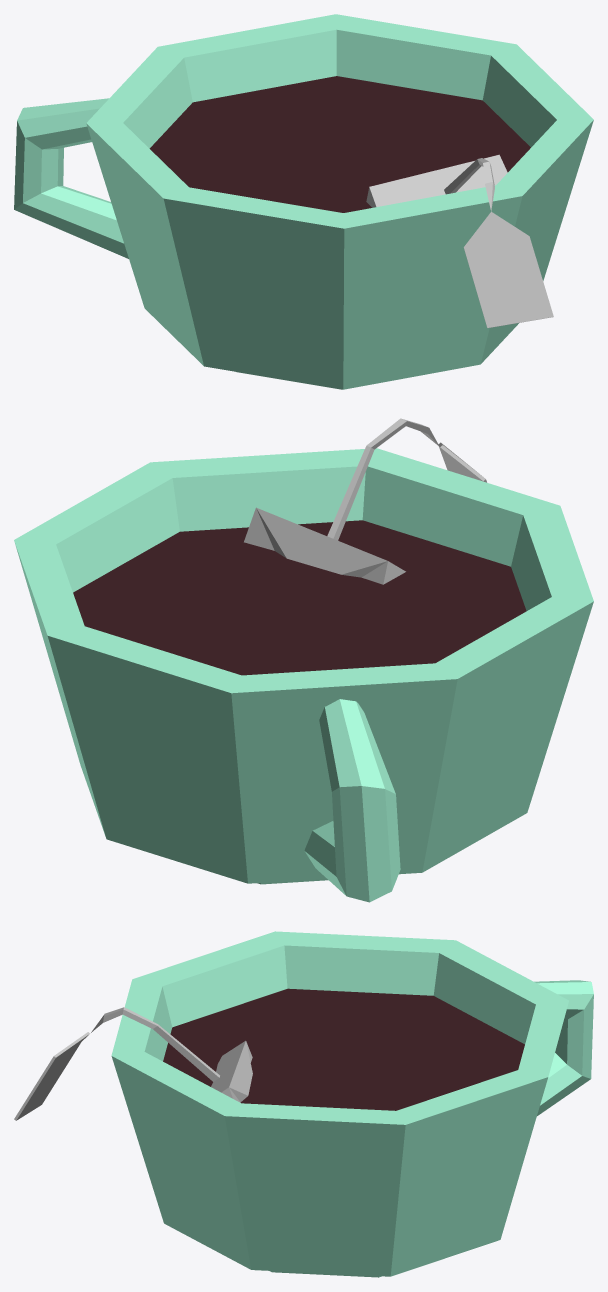
The model's file is Food_tea.fbx.
3 renders of one model, top to bottom at view 1: azimuth 30°, elevation 25°; view 2: azimuth 150°, elevation 25°; view 3: azimuth 270°, elevation 25°, orthographic. The views are drawn at different scales.
Parts seen in each view (by area): view 1: Cup.006; view 2: Cup.006; view 3: Cup.006.
Part boxes in pixels (x1=…): Cup.006: x1=14, y1=14, x2=593, y2=389; Cup.006: x1=14, y1=418, x2=593, y2=902; Cup.006: x1=14, y1=931, x2=593, y2=1277.
Size of the model in its own units: 10.35 by 5.64 by 13.11.
